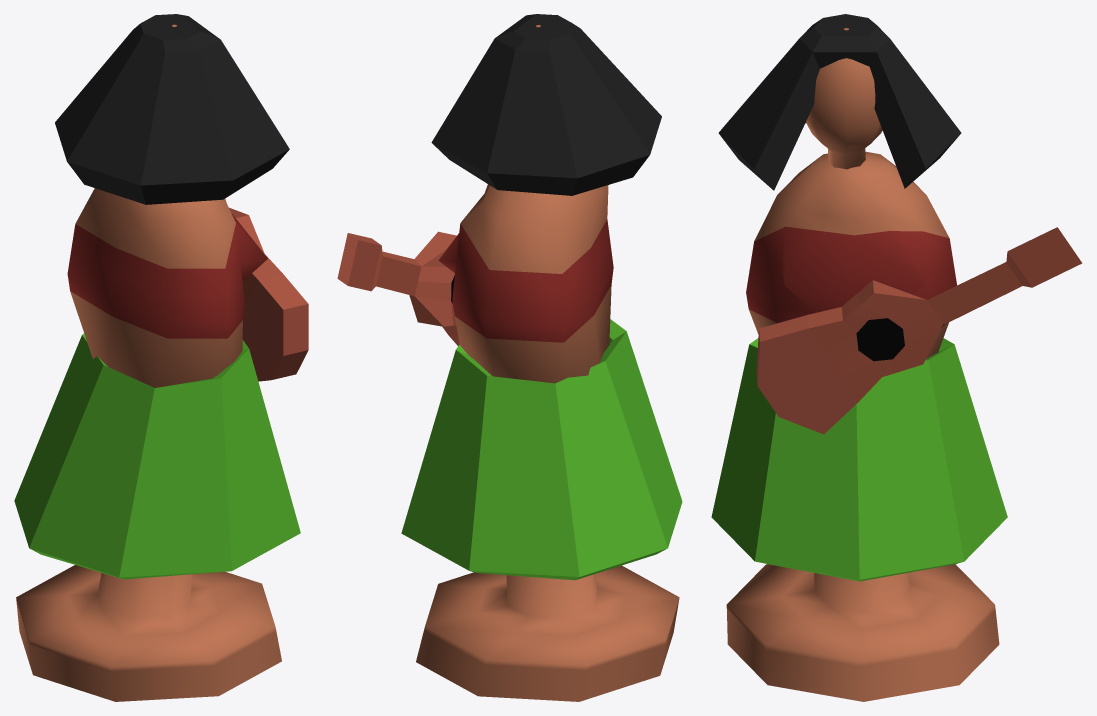
Rendered from hula.glb.
3 renders of one model, left to right at view 1: azimuth 30°, elevation 25°; view 2: azimuth 150°, elevation 25°; view 3: azimuth 270°, elevation 25°, orthographic.
Parts seen in each view (by area): view 1: Sphere.002; view 2: Sphere.002; view 3: Sphere.002.
Part boxes in pixels (<box>): Sphere.002: <box>14,14,308,701</box>; Sphere.002: <box>337,14,682,701</box>; Sphere.002: <box>711,14,1082,701</box>.
Bounding box in the file's own units: 1.22 × 2.84 × 1.53.
